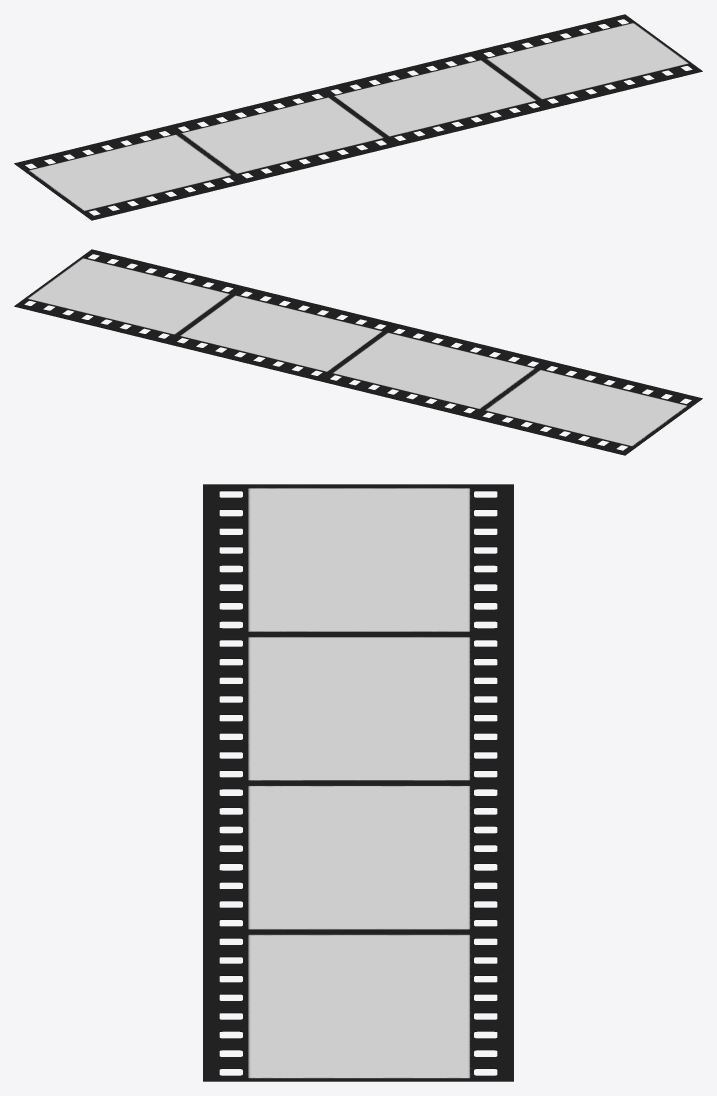
File: film.glb
3 views of the same model, one above another, from view 1: azimuth 30°, elevation 25°; view 2: azimuth 150°, elevation 25°; view 3: azimuth 270°, elevation 25° (orthographic). The views are drawn at different scales.
Parts seen in each view (by area): view 1: model_0; view 2: model_0; view 3: model_0.
Part boxes in pixels (x1,y1,x2,y2): model_0: (14,14,702,220); model_0: (14,249,702,455); model_0: (203,484,513,1081).
Size of the model in its own units: 16.34 by 0.01 by 3.6.
1 material, 1 textured.
